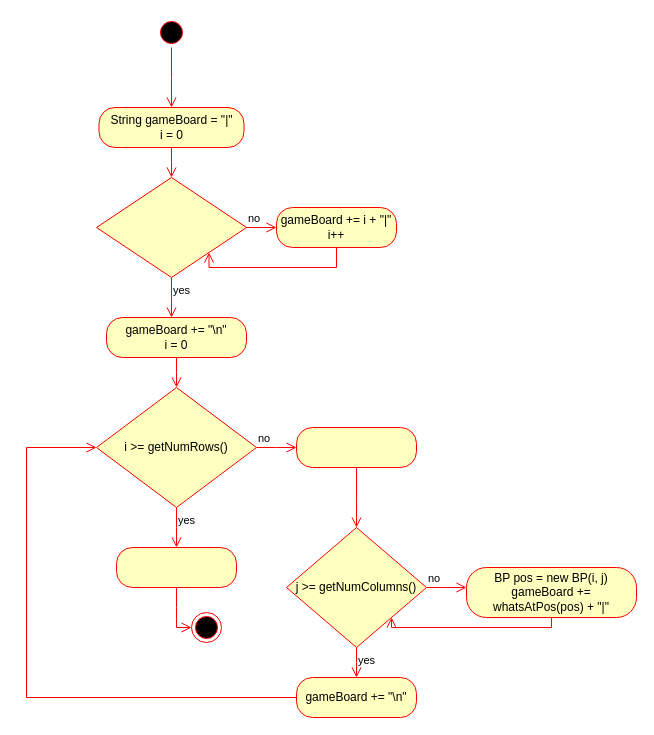
Some shapes in this 654 by 735 pixel diagram are drawn without their labels. The shapes that lost their labels are listed below. From the top down, each one's centre as x and y in pixels, then its label:
point (171, 227): i >= getNumColumns
point (356, 447): gameBoard += "|" j = 0
point (176, 567): return gameBoard
